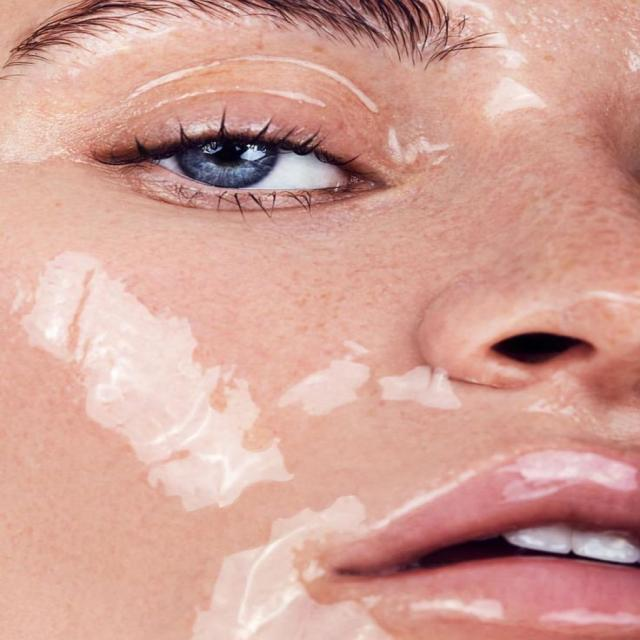Oily-Skin: (117, 393, 316, 505), (447, 0, 584, 121), (232, 536, 371, 640), (0, 286, 177, 364), (311, 337, 508, 403)
